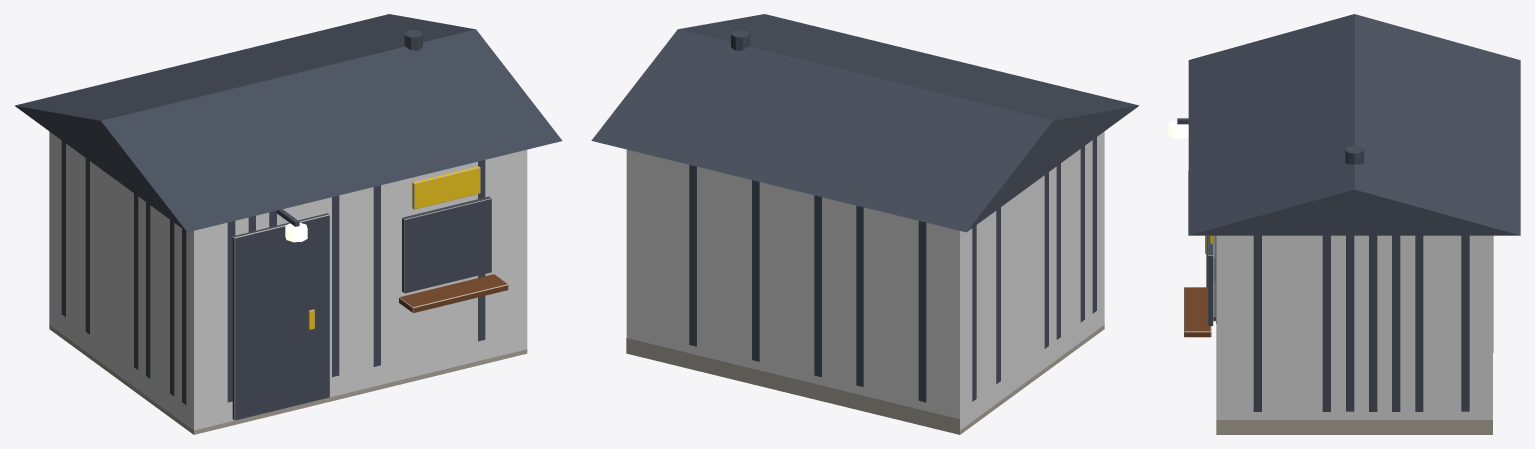
Rendered from bld_shed_a.glb.
3 renders of one model, left to right at view 1: azimuth 30°, elevation 25°; view 2: azimuth 150°, elevation 25°; view 3: azimuth 270°, elevation 25°, orthographic. The views are drawn at different scales.
Visible parts, largest first — view 1: bld_shed_a, COL_bld_shed_a_1; view 2: bld_shed_a, COL_bld_shed_a_1; view 3: bld_shed_a, COL_bld_shed_a_1.
Part boxes in pixels (x1,y1,x2,y2): bld_shed_a: (15,14,562,434); COL_bld_shed_a_1: (49,131,527,430); bld_shed_a: (591,14,1139,434); COL_bld_shed_a_1: (626,131,1104,430); bld_shed_a: (1168,14,1520,434); COL_bld_shed_a_1: (1216,235,1492,419).
Bounding box in the file's own units: 4.5 × 3.18 × 3.82.
